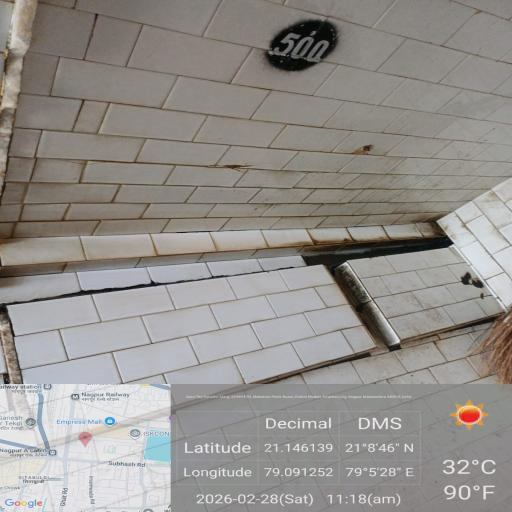partial_dirty_floor: (76, 0, 484, 486)
